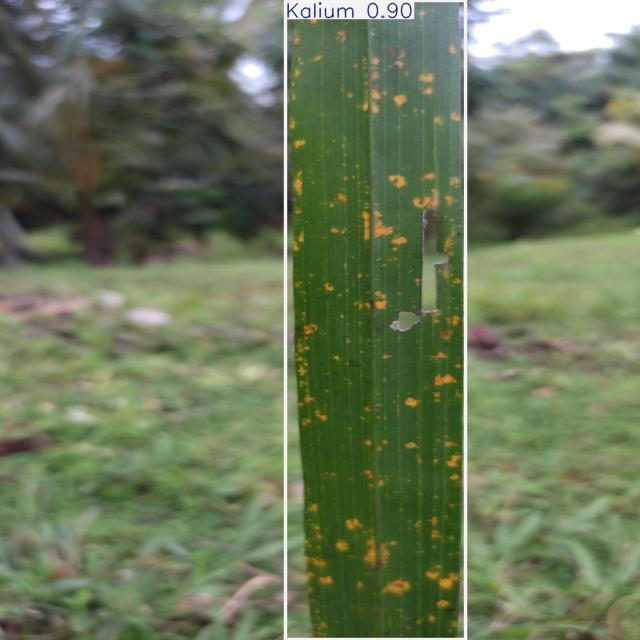Kalium: (286, 0, 466, 639)
